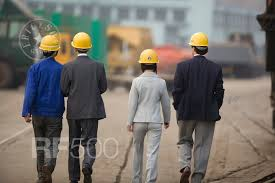Person_wearing_helmet: (134, 41, 163, 65), (38, 34, 59, 53)
